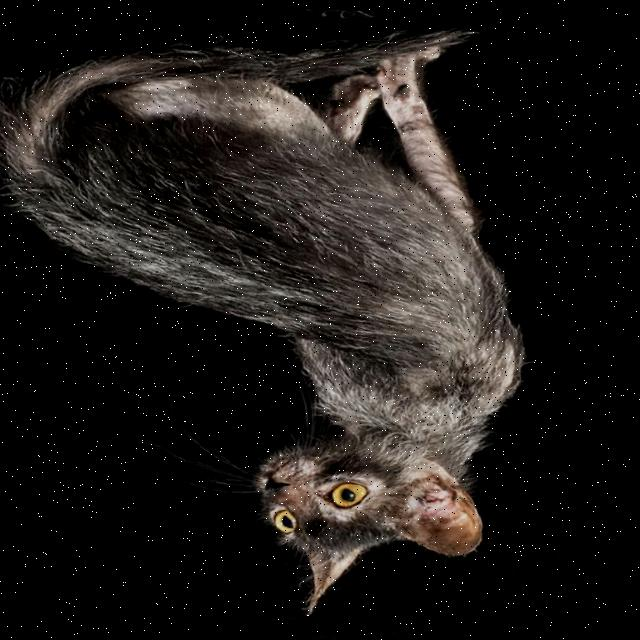Lykoi: (0, 0, 615, 640)
